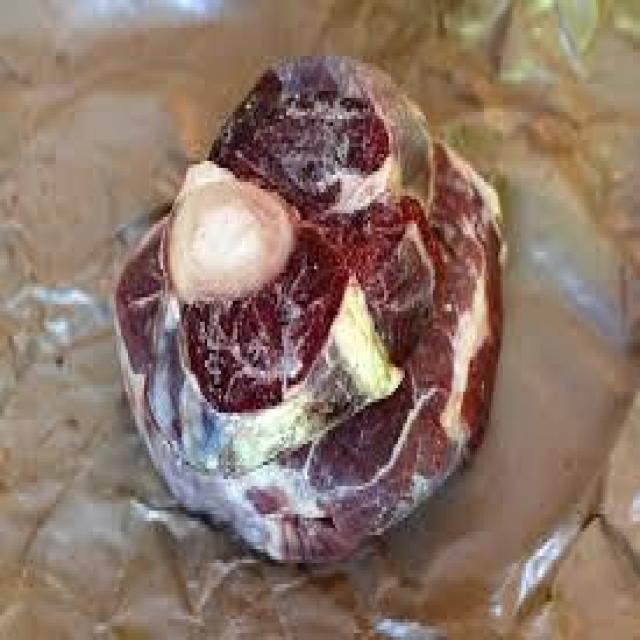beef: (55, 23, 538, 558)
